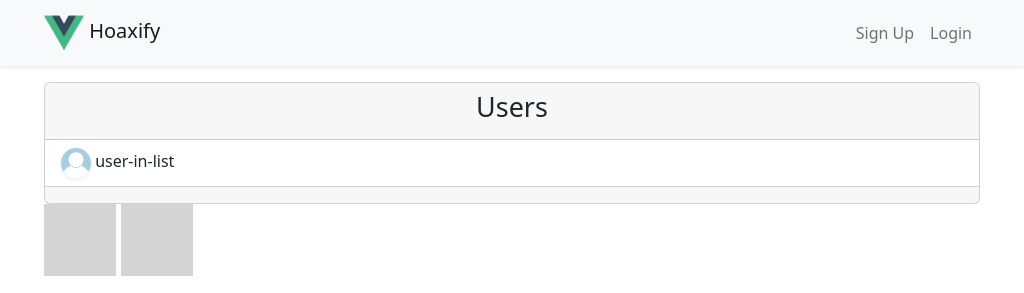
Scenario: Routing › navigates to user page when clicking the username on user list
Click the list item "user-in-list" at (512, 163), box [45,140,979,186]
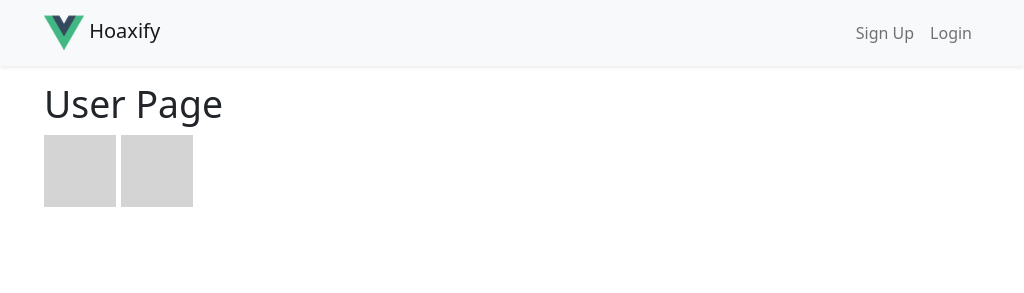
Expected: the element with test id "user-page" is shown, [44,78,223,129]
